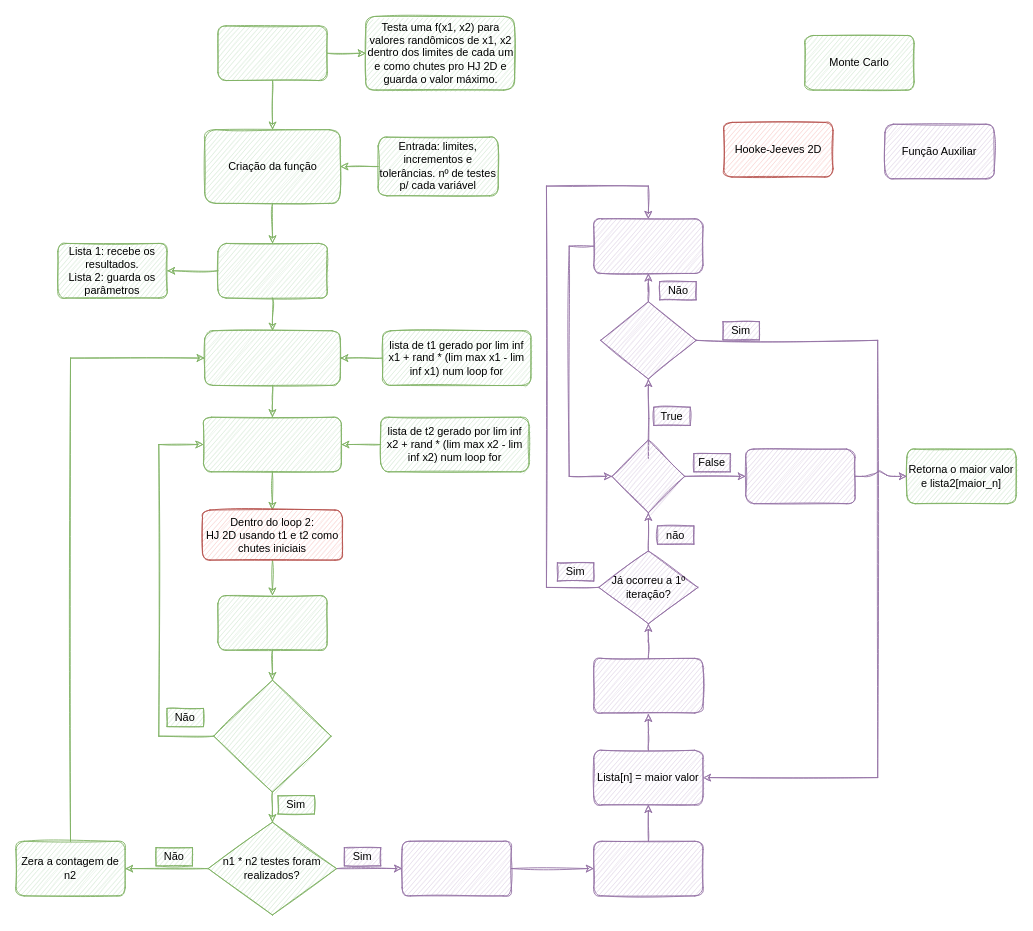
The diagram is 1033 pixels wide and 931 high, and some of its shapes have lost their labels. Here are the shapes that lost their labels. From the top down, the box of each, then its label:
(217, 25, 327, 81): Monte Carlo para duas variáveis
(593, 218, 703, 273): n = n + 1
(217, 243, 327, 298): Criação de duas listas vazias p/ receber os resultados e os parâmetros.
(204, 330, 340, 385): Loop 1: n1 testes em x1, para lim inf x1 <= t1 <= lim max x1
(600, 301, 696, 379): lista[n] > maior valor?
(203, 416, 341, 472): Loop 2 (aninhado a 1): n2 testes em x2, para lim inf x2 <= t2 <= lim max x2
(611, 439, 685, 513): while n < len(lista)
(745, 448, 855, 504): Retorna o maior valor maior_n.
(217, 595, 327, 650): Adicionar resultados a lista 1. Adicionar x1 ótimo e y1 ótimo para lista 2.
(593, 657, 703, 713): guarda o valor de n na variável maior_n
(213, 679, 331, 792): n2 testes foram realizados para aquele n1?
(401, 840, 511, 896): Acha o maior valor da lista
(593, 840, 703, 896): define n = 0
